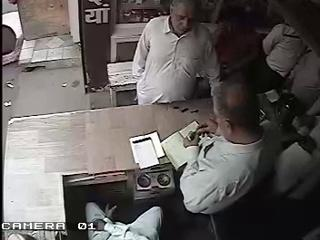Normal: (180, 80, 266, 216), (131, 0, 221, 105)
